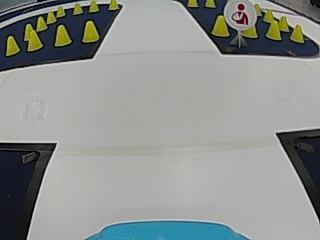cone: (211, 15, 230, 37), (25, 27, 42, 50), (82, 21, 99, 42), (54, 25, 71, 46), (266, 20, 281, 40), (5, 35, 20, 54), (291, 23, 304, 43), (36, 15, 47, 30), (88, 0, 99, 13), (107, 0, 118, 11), (72, 3, 83, 14), (56, 5, 66, 17), (46, 11, 56, 22), (186, 0, 198, 8), (204, 0, 216, 8)
patient: (228, 0, 255, 27)
